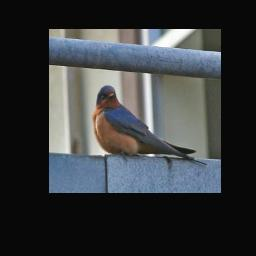Swallow: (92, 85, 208, 166)
